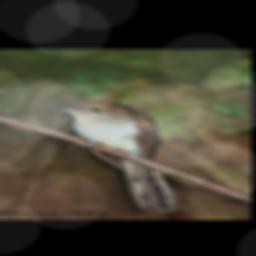Cuckoo: (54, 100, 180, 213)
